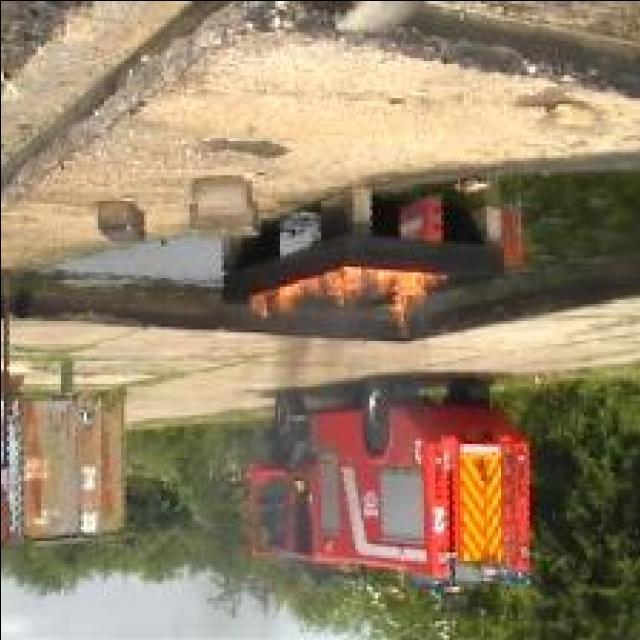Fire: (247, 262, 450, 336)
